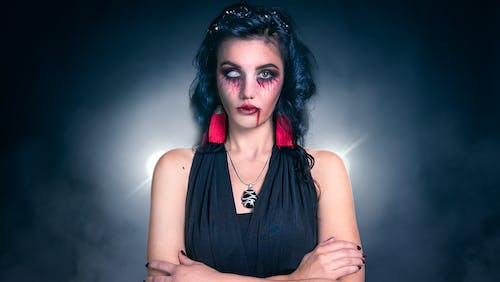blood: (253, 73, 282, 96), (216, 73, 242, 95), (256, 107, 261, 128)
